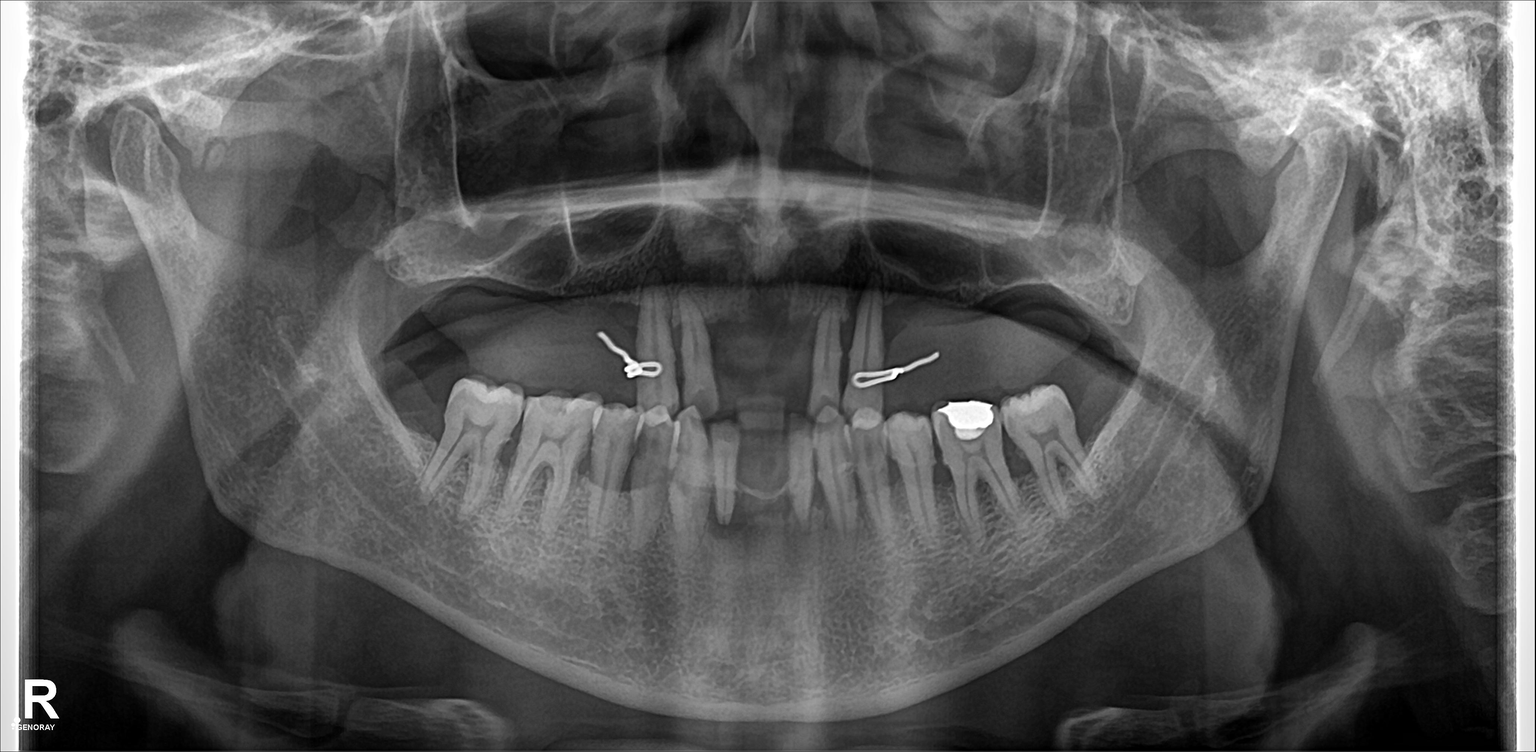Missing Tooth: (711, 294, 770, 401), (503, 262, 560, 369), (568, 268, 626, 372), (940, 290, 991, 381), (890, 292, 937, 387), (1050, 290, 1097, 384), (415, 272, 459, 356), (1006, 287, 1037, 383), (466, 264, 493, 362)
